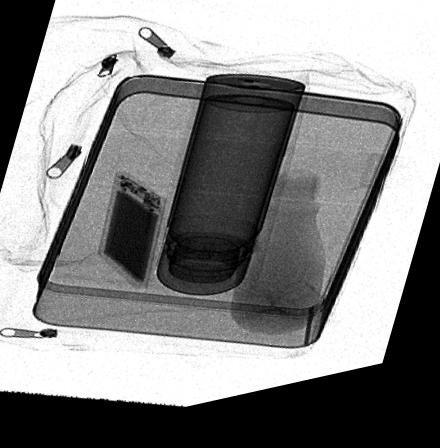Powerbank: (95, 177, 167, 297)
